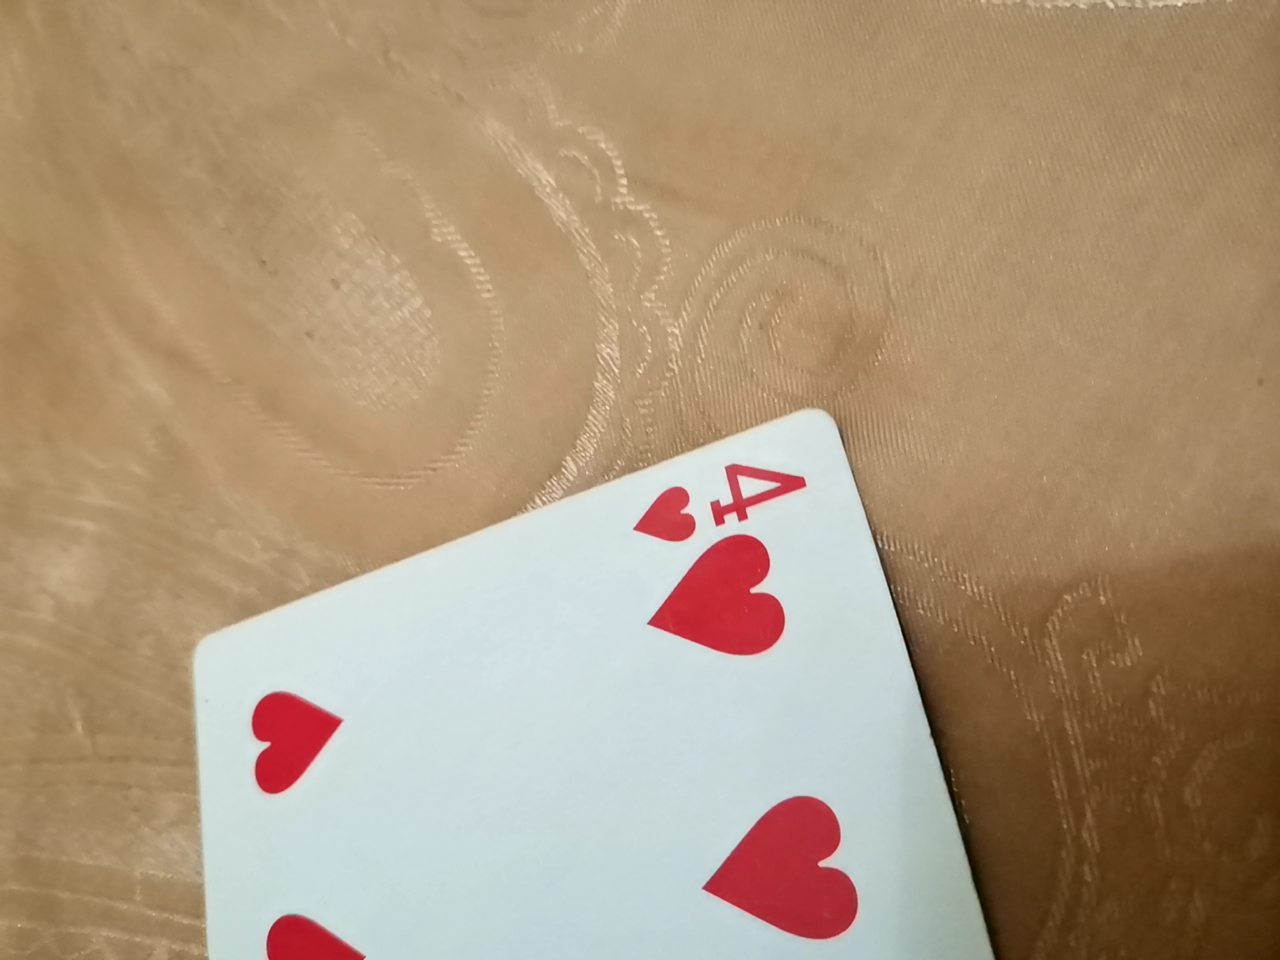hx 4: (153, 413, 990, 952)
